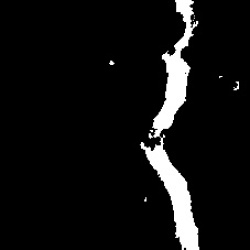crack: (140, 137, 200, 250), (149, 0, 195, 137), (232, 77, 238, 93), (108, 58, 115, 64), (142, 196, 144, 202), (219, 72, 221, 77)
